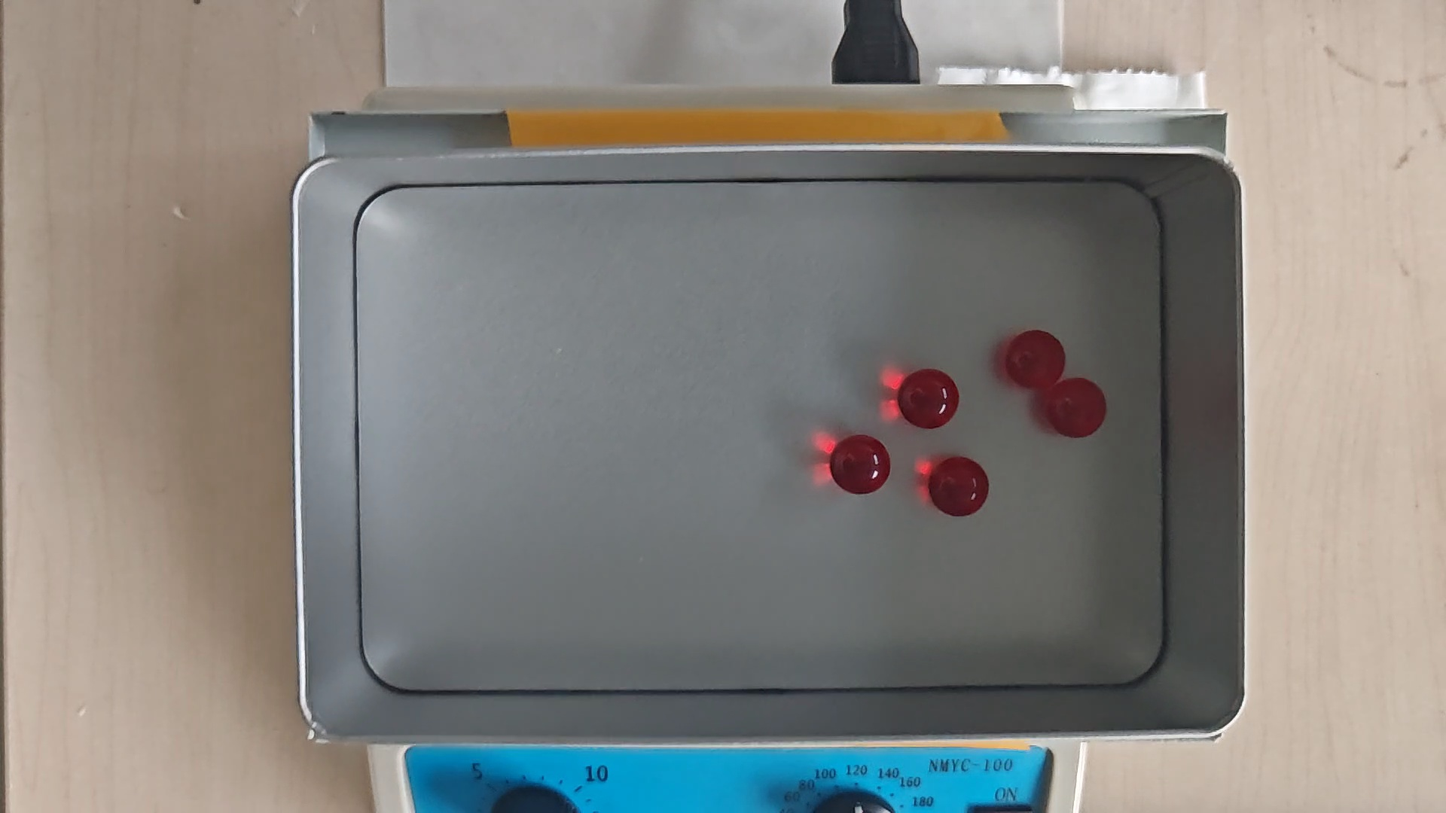ball: (929, 455, 989, 518), (901, 368, 959, 431), (1045, 377, 1105, 437), (1008, 328, 1066, 390), (832, 434, 889, 497)
container: (350, 181, 1165, 692)
